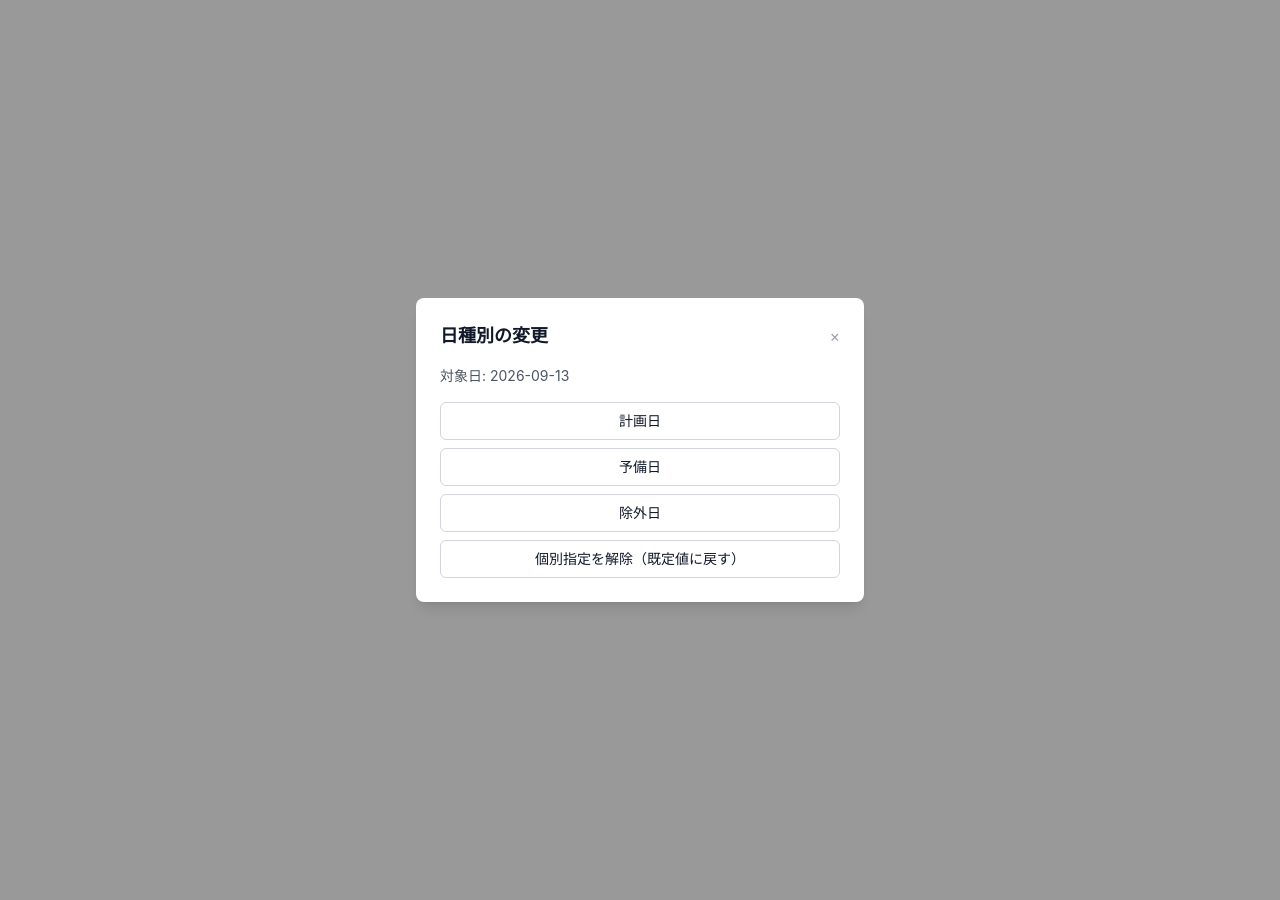
it: DayTypeEditModal › keeps the day type buttons pressed-proof while saving
Click the button "計画日": (640, 421) x1=440 y1=402 x2=840 y2=440
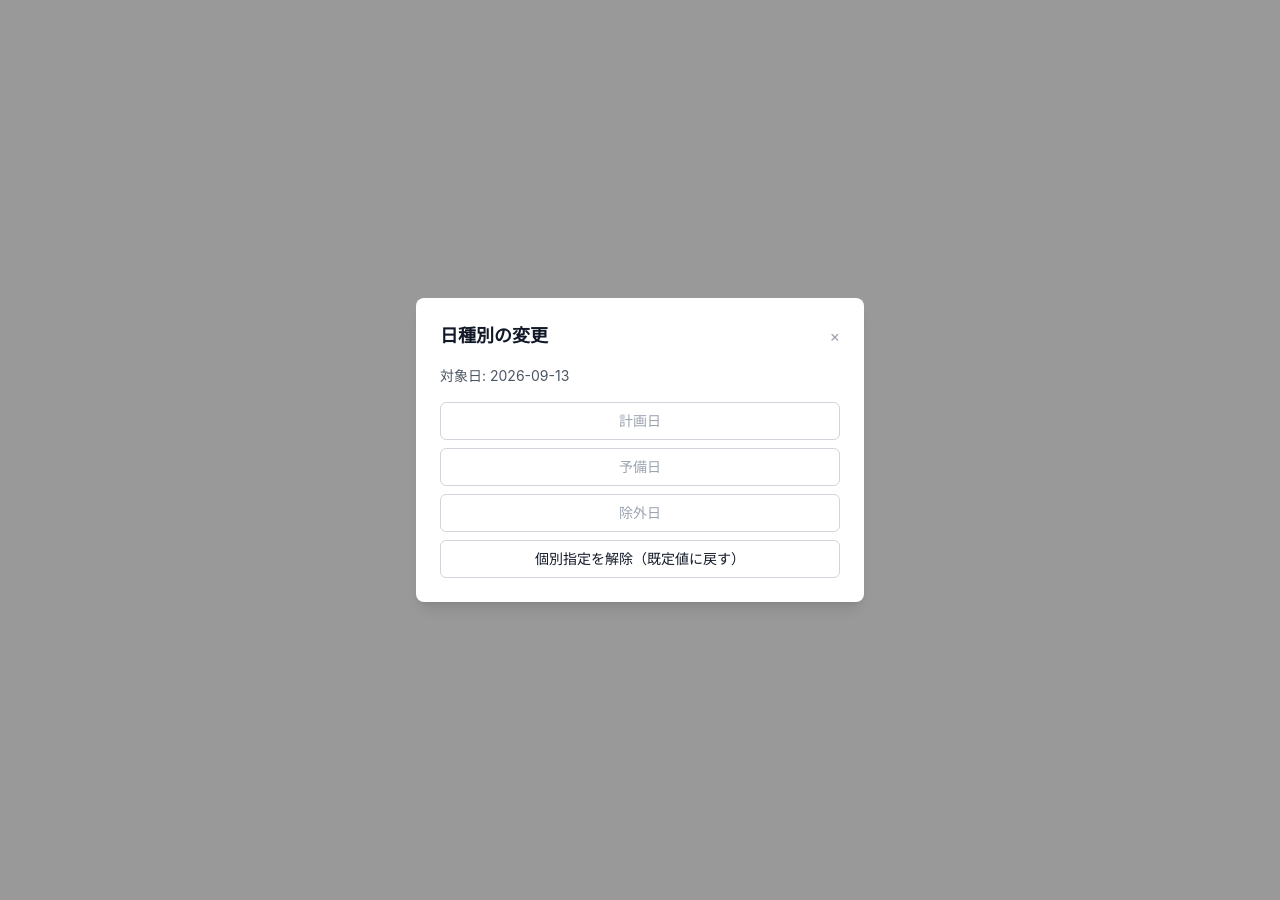
Expected: the button "予備日" is disabled, x1=440 y1=448 x2=840 y2=486
